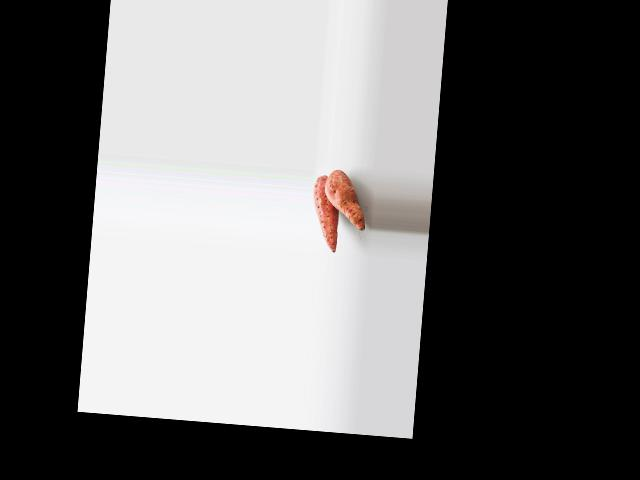sweet_potato: (310, 175, 342, 247)
